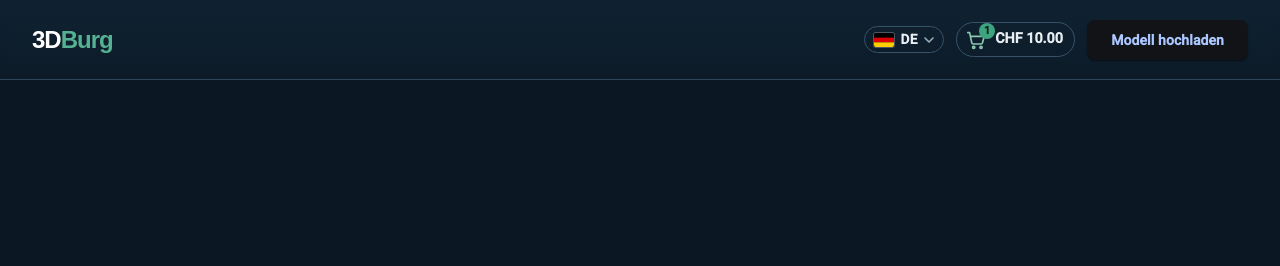
it: HeaderComponent › cart preview › closes after the grace period once the mouse has left, unless it comes back
Hover over the element with class "cart-widget": (1016, 40) [956,22,1075,57]
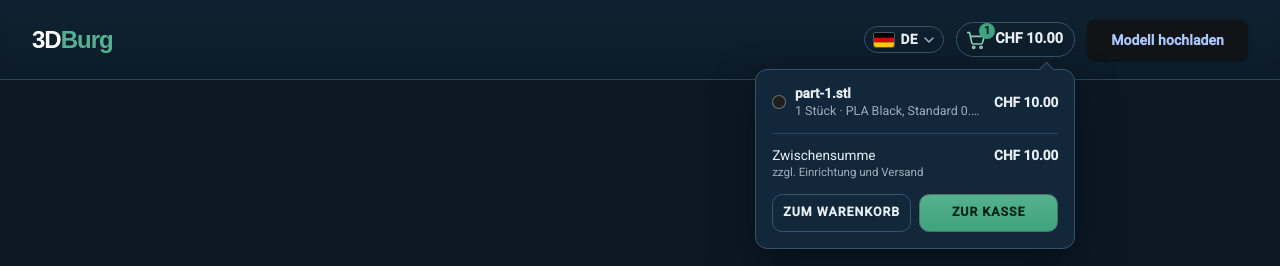
Move the pointer off the element with class "cart-widget", box [956,22,1075,57]
Now the element with class "cart-preview" is shown, box [755,69,1075,249]
Hover over the element with class "cart-widget": (1016, 40) [956,22,1075,57]
Now the element with class "cart-preview" is shown, box [755,69,1075,249]
Move the pointer off the element with class "cart-widget", box [956,22,1075,57]
Wait 150 ms
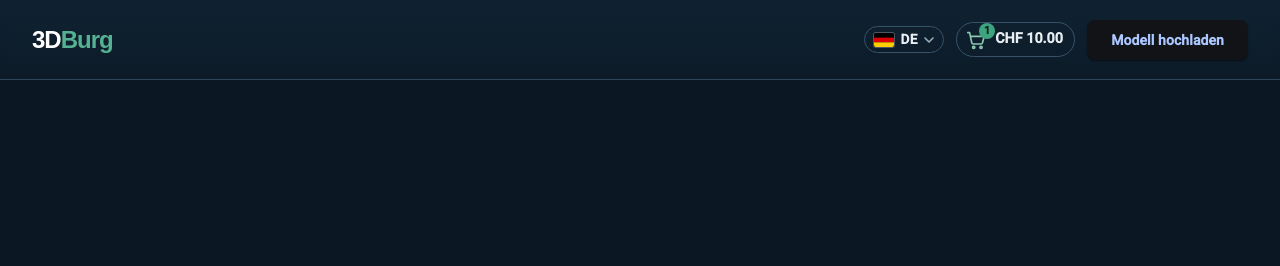
Now the element with class "cart-preview" is gone
